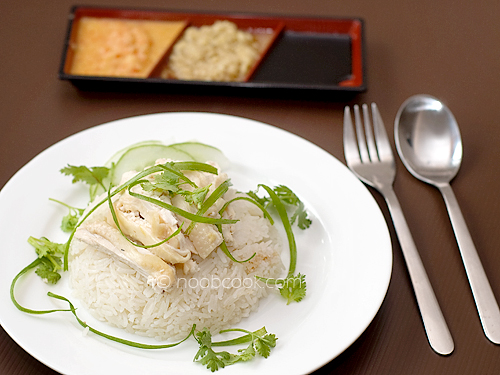Steamed Chicken Rice: (65, 174, 284, 326)
